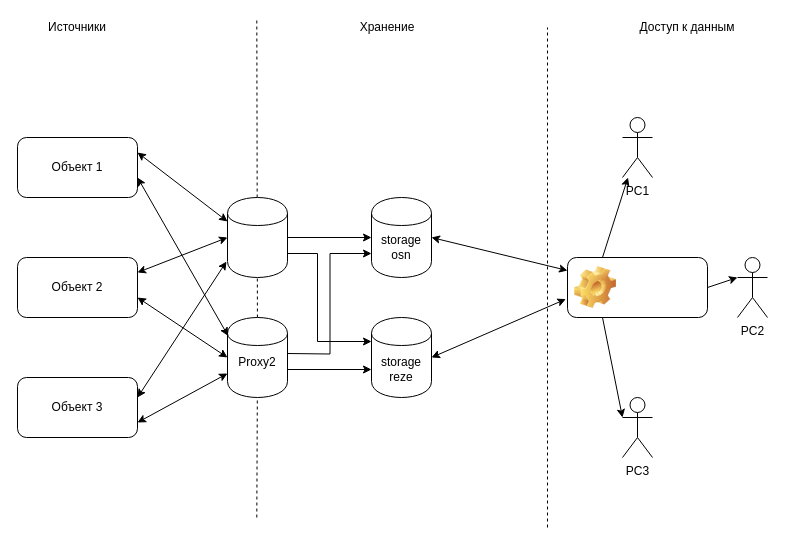
Some shapes in this 785 by 546 pixel diagram are drawn without their labels. Here are the shapes that lost their labels. From the top down, the centre of each, then its label:
pixel 257 237: Proxy1
pixel 637 287: WEB view
